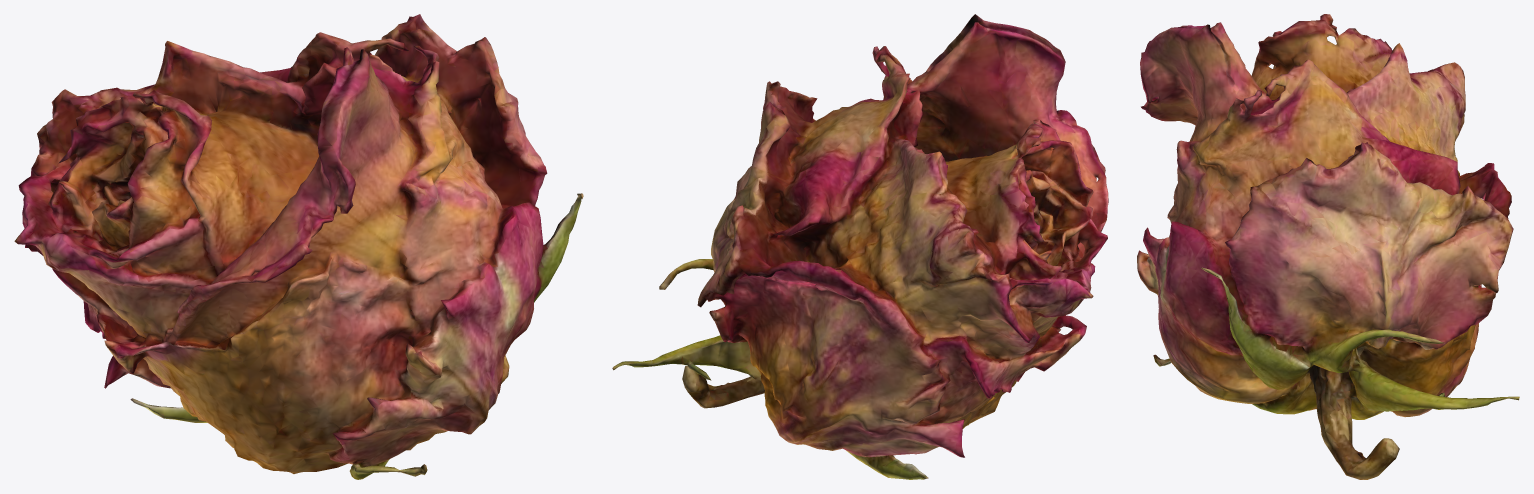
Rendered from dead_rose-transformed.glb.
3 views of the same model, side by side, from view 1: azimuth 30°, elevation 25°; view 2: azimuth 150°, elevation 25°; view 3: azimuth 270°, elevation 25° (orthographic). The views are drawn at different scales.
Parts seen in each view (by area): view 1: dead-rose; view 2: dead-rose; view 3: dead-rose.
Boxes of the visible parts, box(x1,y1,x2,y2) form: dead-rose: box(14, 14, 583, 479); dead-rose: box(612, 14, 1108, 479); dead-rose: box(1137, 14, 1519, 479).
Size of the model in its own units: 21.95 by 19.91 by 18.49.
Materials: 1 (1 with a texture image).
